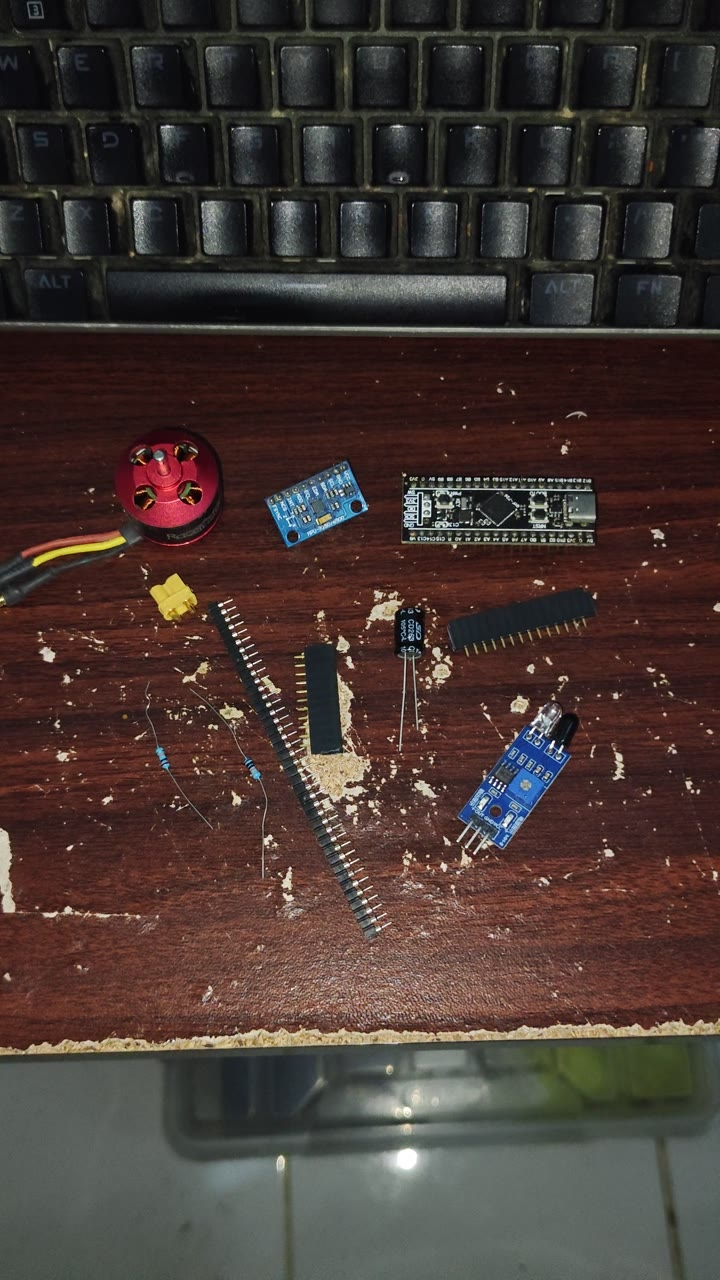bldc_motor: (74, 396, 211, 532)
elco_capacitor: (430, 568, 492, 680)
ir_sensor: (494, 654, 627, 862)
mpu6500: (295, 422, 439, 539)
pin_header: (255, 578, 464, 906), (489, 543, 642, 646), (341, 597, 419, 721)
resistor: (261, 669, 353, 822), (183, 668, 273, 792)
stm32f4: (428, 474, 603, 530)
xt30_female: (188, 527, 278, 616)
